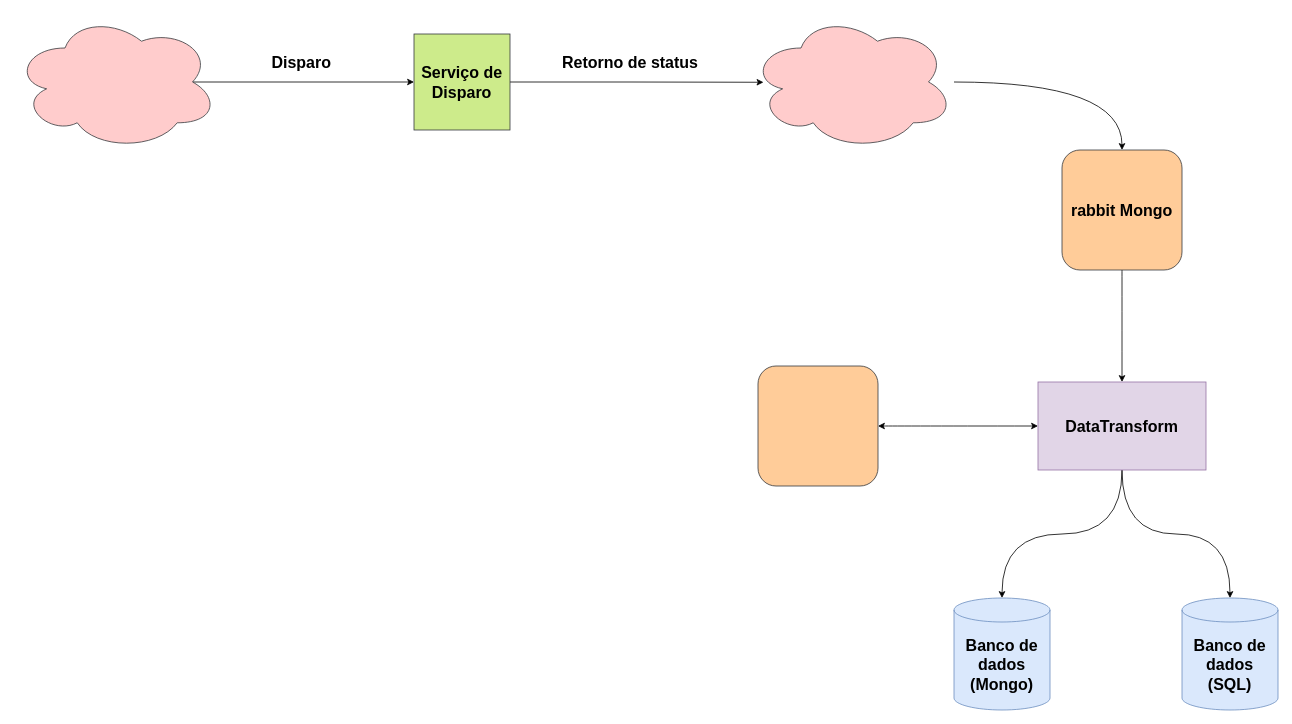
This 1292x724 diagram has some shape labels left out. The box of each missing label's shape, as (x1, y1, x2, y2) in pixels:
Action Callback: (749, 13, 954, 150)
Action Site: (13, 13, 218, 150)
rabbit SQL: (757, 365, 878, 486)
